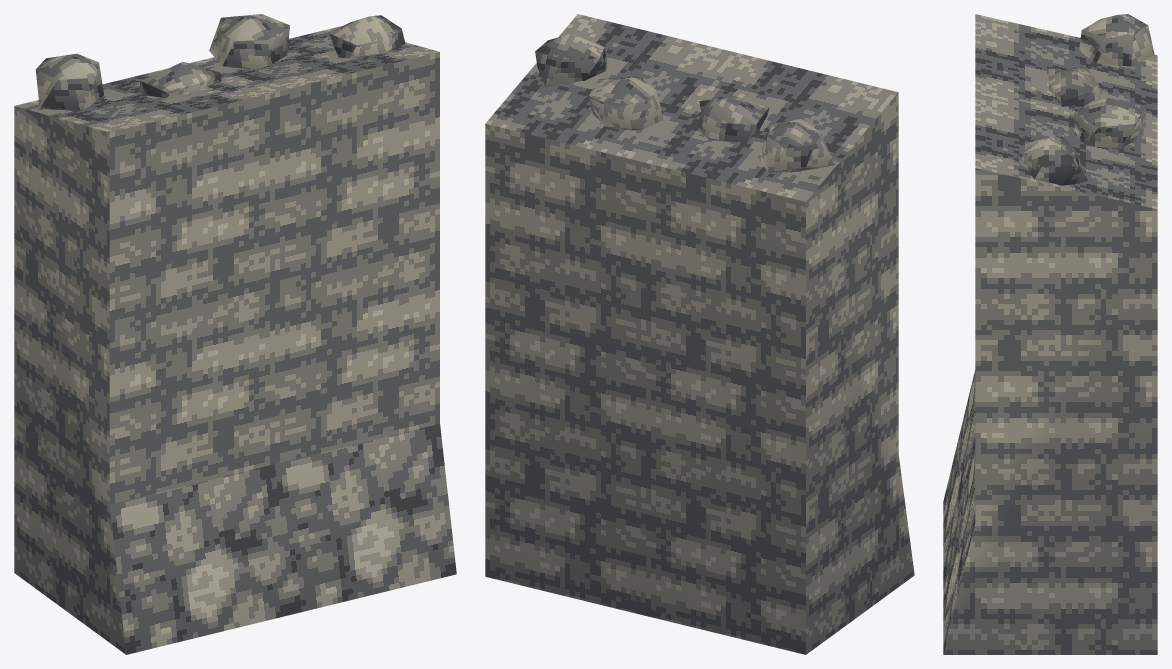
Rendered from cst.curtain__broken.glb.
3 views of the same model, side by side, from view 1: azimuth 30°, elevation 25°; view 2: azimuth 150°, elevation 25°; view 3: azimuth 270°, elevation 25° (orthographic). The views are drawn at different scales.
Parts seen in each view (by area): view 1: kit_wall, kit_top; view 2: kit_wall, kit_top; view 3: kit_wall, kit_top.
Boxes of the visible parts, x1,y1,x2,y2 form: kit_wall: (14, 26, 456, 654); kit_top: (35, 14, 405, 110); kit_wall: (485, 14, 914, 654); kit_top: (535, 34, 834, 172); kit_wall: (943, 14, 1157, 654); kit_top: (1019, 14, 1154, 185).
Size of the model in its own units: 4.03 by 6.08 by 2.35.
3 materials, 3 textured.
